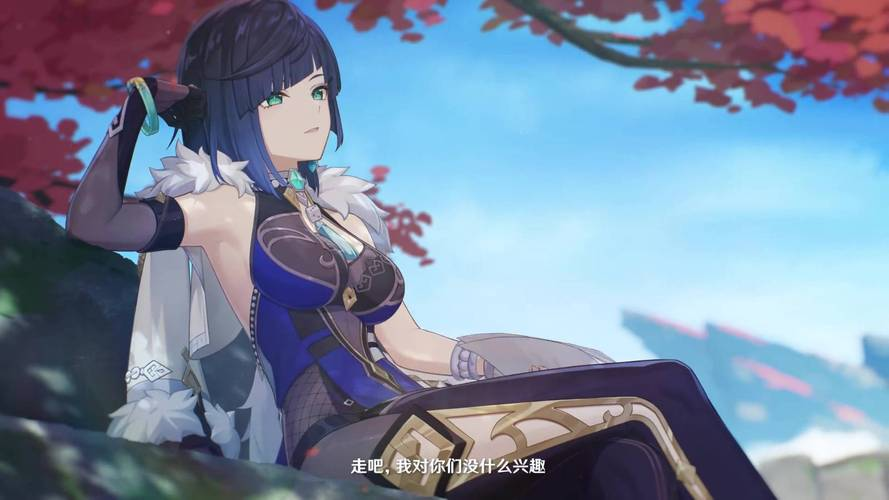夜兰: (63, 2, 783, 500)
